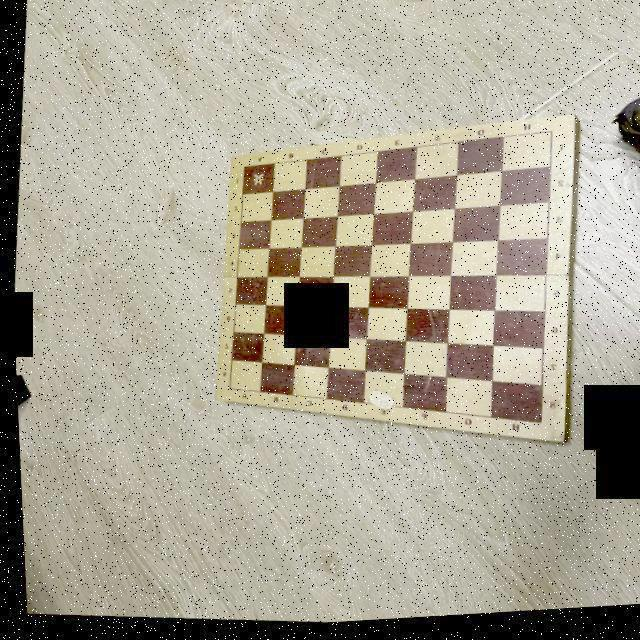chess-table-corners: (544, 132, 554, 142), (532, 425, 542, 431), (240, 166, 247, 172), (222, 387, 228, 392)
